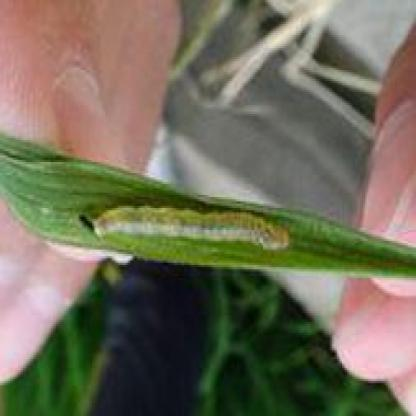leaf-folder: (76, 189, 296, 281)
